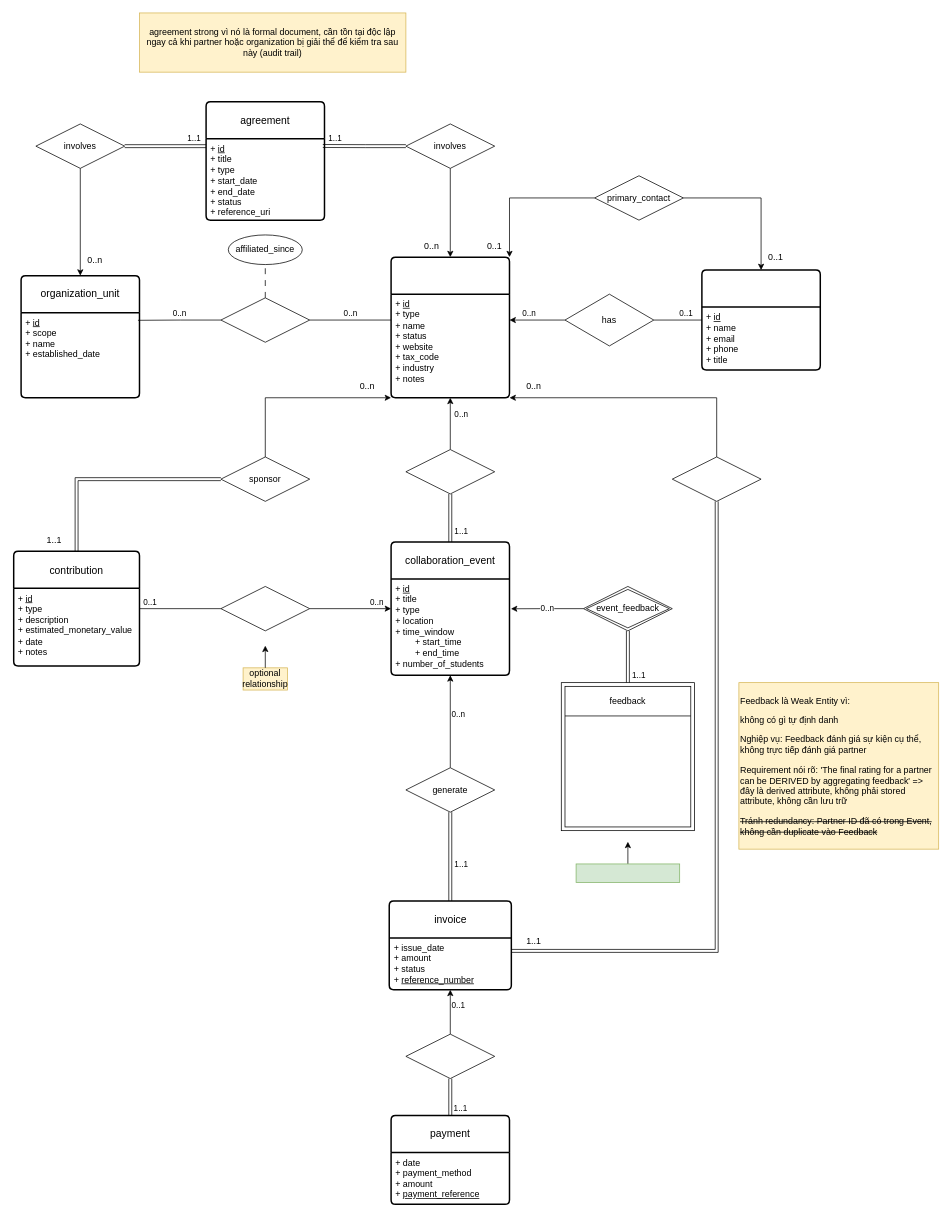
Image size: 952x1218. Some labels were removed from this diagram. The shapes that lost their labels are listed below. From the top down, each one's box as (x1, y1, x2, y2) in pixels, then its label:
(220, 297, 310, 342): affiliate
(390, 256, 510, 398): Partner
(701, 269, 821, 370): contact_point
(405, 449, 495, 494): participate
(672, 456, 761, 501): partner_invoice
(220, 586, 310, 631): link
(561, 682, 694, 831): + rater_name + rating + comments + date
(575, 863, 680, 882): rater_name is partial key
(405, 1033, 495, 1079): invoice_payment
